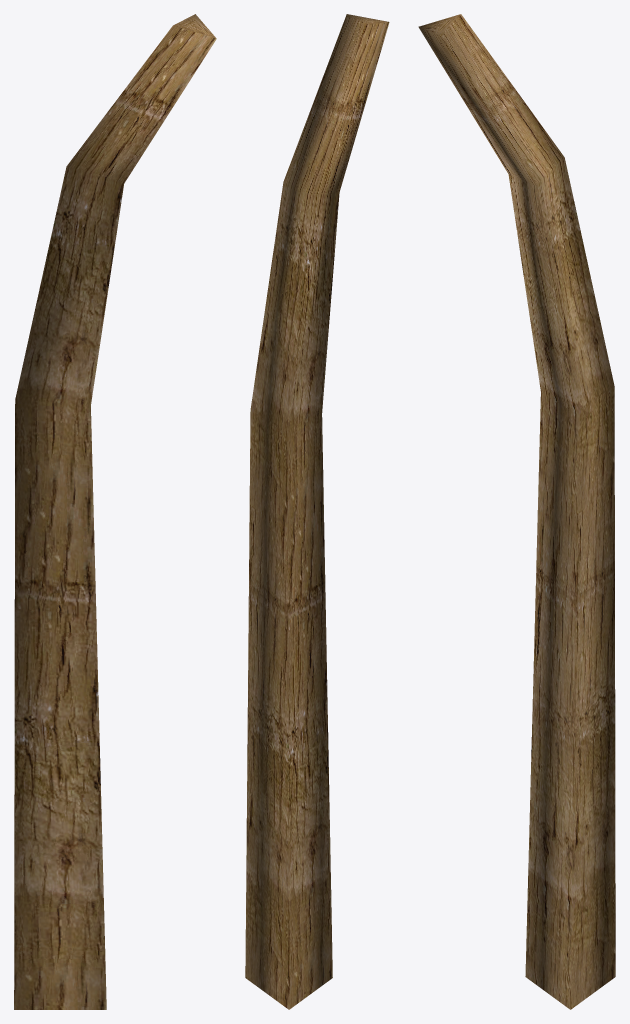
File: palm10_geom.obj
3 renders of one model, left to right at view 1: azimuth 90°, elevation 25°; view 2: azimuth 150°, elevation 25°; view 3: azimuth 270°, elevation 25°, orthographic. The views are drawn at different scales.
Visible parts, largest first — view 1: material0; view 2: material0; view 3: material0.
Boxes of the visible parts, x1,y1,x2,y2 form: material0: [14, 14, 216, 1009]; material0: [245, 14, 389, 1009]; material0: [418, 14, 615, 1009].
Bounding box in the file's own units: 4.15 × 52.43 × 9.76.
